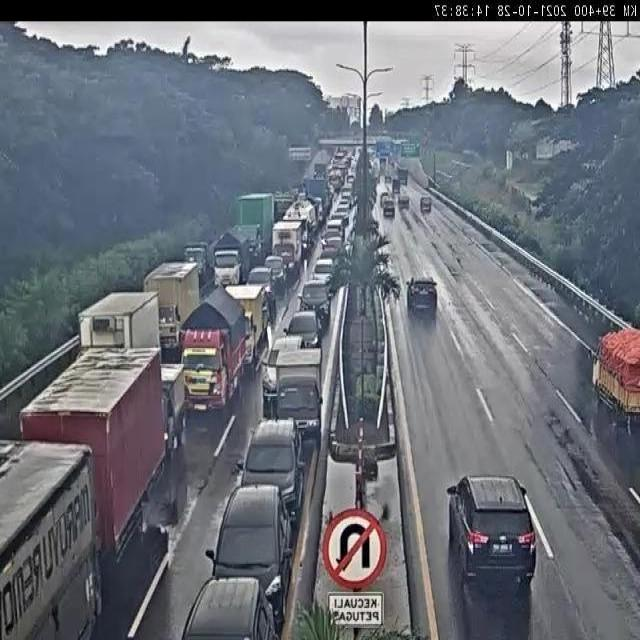Car: (204, 482, 291, 616), (444, 470, 540, 589), (234, 418, 304, 514), (185, 577, 280, 640), (295, 282, 331, 330), (404, 273, 439, 310), (382, 199, 395, 219), (398, 193, 410, 208), (420, 196, 432, 211)
Truck: (0, 345, 160, 640), (74, 289, 159, 391), (585, 320, 640, 427), (143, 262, 198, 358), (139, 362, 184, 462), (218, 278, 266, 370), (274, 348, 322, 434), (211, 225, 250, 290), (269, 220, 300, 279)
